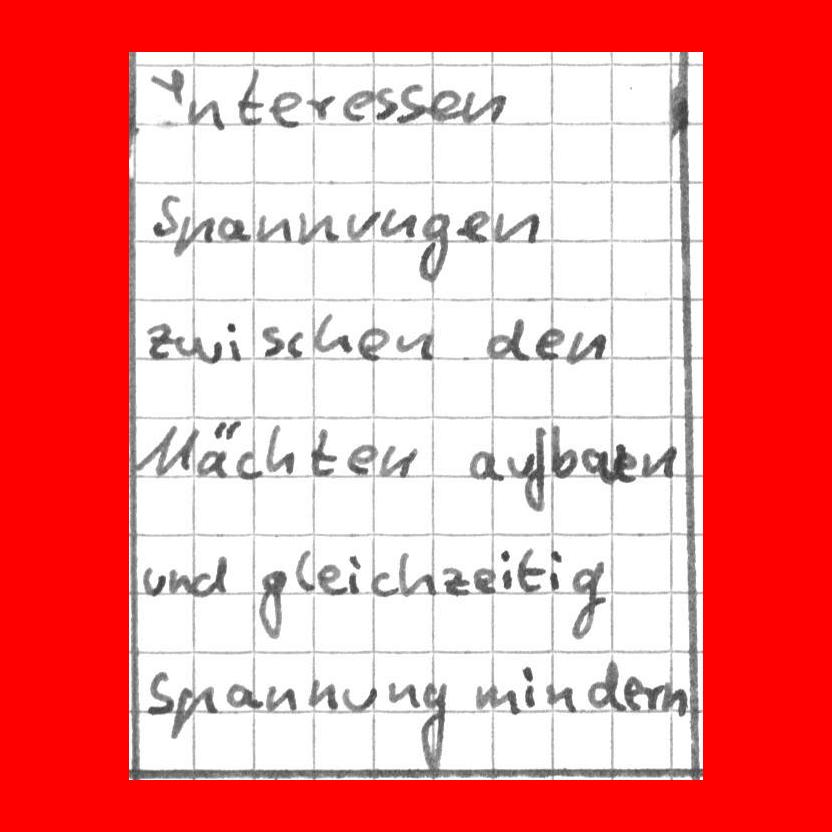Char: (135, 421, 200, 478), (417, 675, 448, 777), (569, 559, 607, 640), (168, 682, 219, 741), (195, 420, 242, 478), (145, 63, 185, 130), (416, 208, 451, 283), (256, 566, 288, 638), (484, 315, 531, 362), (585, 659, 625, 714), (396, 548, 437, 599), (522, 423, 546, 510), (311, 311, 355, 358), (459, 87, 510, 127), (172, 213, 214, 258), (190, 554, 231, 600), (235, 65, 264, 129), (548, 421, 578, 482), (174, 332, 225, 367), (295, 210, 340, 247), (265, 423, 296, 475), (494, 210, 540, 245), (474, 682, 521, 716), (310, 426, 340, 478), (564, 329, 607, 365), (641, 442, 680, 481), (145, 668, 177, 715), (186, 96, 227, 132), (377, 443, 418, 479), (516, 546, 545, 595), (395, 80, 427, 124), (151, 192, 182, 237), (267, 88, 301, 129), (345, 207, 381, 245), (380, 204, 416, 242), (356, 325, 392, 362), (340, 87, 375, 125), (533, 324, 566, 364), (454, 209, 491, 244), (254, 211, 292, 245), (395, 329, 435, 361), (468, 449, 506, 482), (262, 682, 300, 715), (580, 444, 609, 486), (429, 87, 461, 125), (292, 546, 317, 594), (224, 681, 265, 710), (345, 442, 378, 477), (306, 677, 339, 712), (542, 682, 577, 715), (339, 683, 376, 714), (384, 678, 421, 709), (145, 321, 174, 360), (216, 214, 253, 244), (315, 561, 347, 595), (440, 564, 471, 598), (660, 681, 687, 719), (547, 547, 568, 595), (303, 92, 335, 123), (612, 446, 637, 485), (235, 449, 264, 481), (375, 84, 399, 122), (260, 324, 285, 360), (369, 569, 398, 600), (141, 563, 166, 598), (225, 319, 244, 364), (623, 673, 643, 714), (520, 661, 537, 709), (346, 550, 363, 597), (506, 451, 533, 480), (167, 565, 191, 597), (641, 680, 664, 713), (497, 547, 514, 591), (473, 565, 496, 597), (285, 327, 306, 360)
